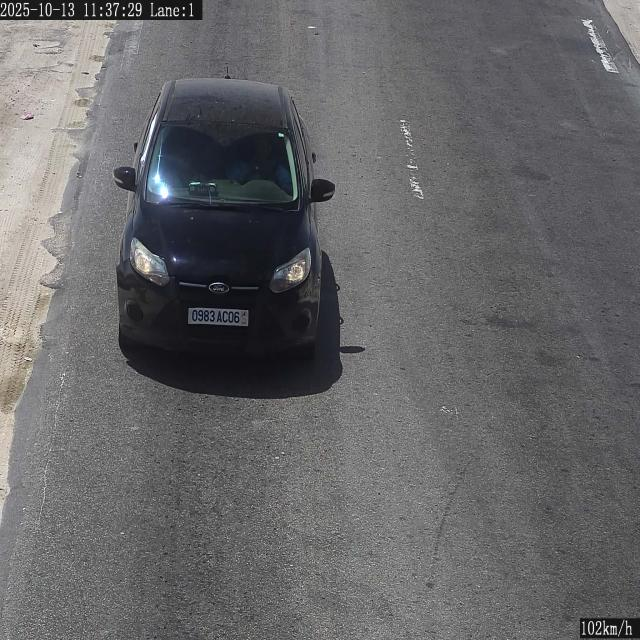BUS: (188, 307, 250, 328)
